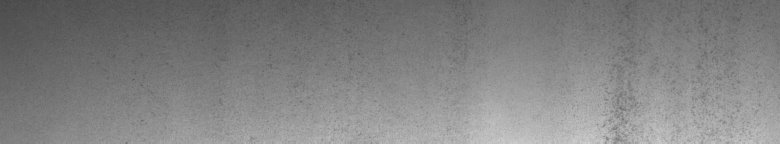ib: (597, 32, 725, 136)
